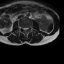CCS_stenosis: (24, 26, 26, 32)
LFS_normal: (28, 25, 29, 30)
LLS_stenosis: (26, 26, 28, 31)
RFS_stenosis: (21, 26, 23, 30)
RLS_stenosis: (23, 26, 24, 31)
